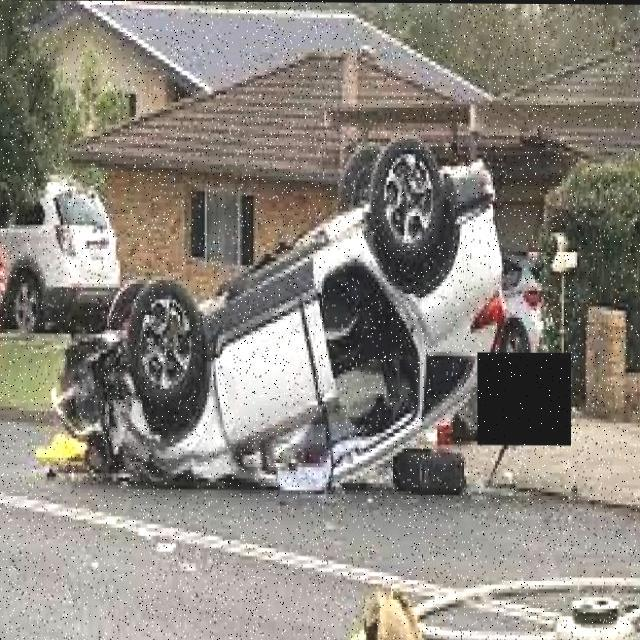normal: (7, 170, 126, 341), (504, 234, 594, 404)
single accident: (63, 156, 540, 523)
